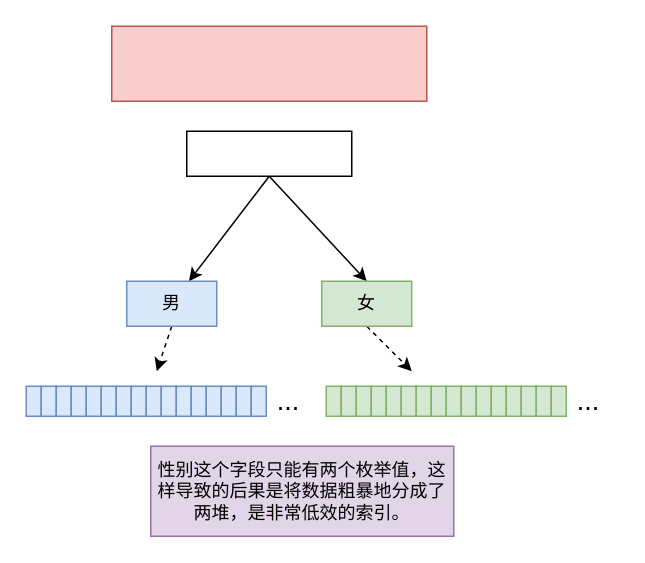
Some shapes in this 645 by 563 pixel diagram are drawn without their labels. The centre of each missing label's shape, as x and y in pixels:
"root" belongs at (268,153).
"如果一个索引字段不够分散，或者说这个索引字段能被枚举，而且范围很小，那这个索引不是一个有效的索引。" belongs at (268,63).
